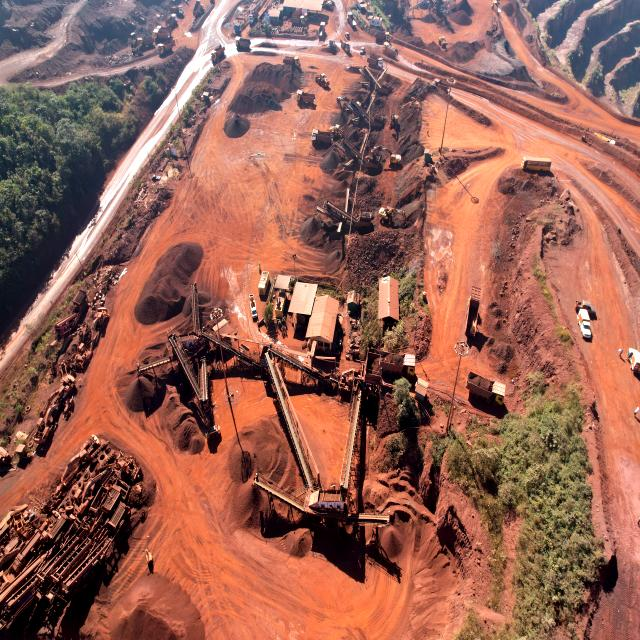Dumper truck: (468, 372, 503, 407), (380, 356, 416, 379), (466, 287, 482, 337), (298, 91, 314, 107), (292, 8, 308, 24), (283, 53, 301, 67), (160, 18, 177, 32), (312, 130, 329, 144), (211, 46, 225, 62), (154, 27, 170, 41), (156, 41, 170, 56), (431, 76, 446, 90), (158, 40, 173, 54), (283, 53, 299, 66), (154, 26, 170, 39), (156, 26, 170, 40), (235, 37, 249, 51), (132, 36, 146, 50), (284, 54, 300, 66), (155, 42, 168, 56), (372, 156, 385, 169), (390, 153, 401, 168), (346, 12, 357, 27), (340, 37, 350, 53), (237, 38, 250, 50), (432, 78, 445, 90), (164, 15, 176, 27), (132, 39, 144, 51), (374, 58, 386, 70), (602, 135, 618, 144), (606, 136, 620, 146), (608, 136, 622, 146), (383, 44, 395, 55), (378, 31, 390, 42), (606, 135, 620, 144), (372, 57, 383, 68), (312, 130, 322, 142), (370, 57, 382, 67), (194, 1, 204, 13), (319, 22, 325, 38), (176, 4, 183, 17), (492, 0, 499, 11)
Excavator: (379, 205, 407, 225), (349, 100, 363, 118), (332, 124, 343, 140), (391, 113, 400, 130), (337, 95, 348, 107)
car: (578, 307, 591, 338), (576, 300, 595, 318)
person: (635, 406, 640, 419), (618, 348, 624, 357), (627, 352, 632, 361), (281, 326, 283, 334), (257, 320, 259, 328), (428, 129, 430, 136), (556, 173, 558, 180), (561, 180, 563, 187), (228, 32, 230, 38), (285, 326, 286, 333), (283, 326, 284, 333)
